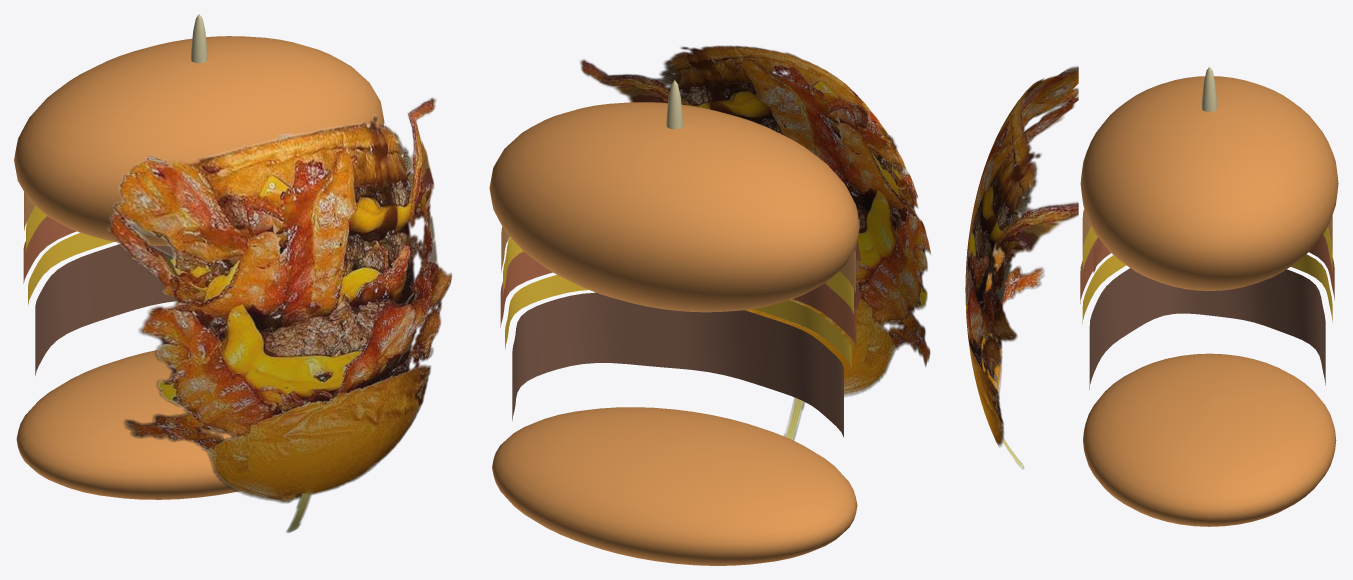
The model's file is classico-aproximado.glb.
3 views of the same model, side by side, from view 1: azimuth 30°, elevation 25°; view 2: azimuth 150°, elevation 25°; view 3: azimuth 270°, elevation 25° (orthographic). The views are drawn at different scales.
Parts seen in each view (by area): view 1: Foto original curva na frente, Pao superior, Pao inferior, Carne, Queijo entre camadas, Bacon em volta, Palito; view 2: Pao superior, Pao inferior, Foto original curva na frente, Carne, Queijo entre camadas, Bacon em volta, Queijo superior, Palito; view 3: Pao superior, Pao inferior, Foto original curva na frente, Carne, Queijo entre camadas, Bacon em volta, Palito, Queijo superior.
Boxes of the visible parts, x1,y1,x2,y2 form: Foto original curva na frente: (108,97,451,532); Pao superior: (14,36,384,246); Pao inferior: (16,350,238,499); Carne: (35,244,177,375); Queijo entre camadas: (28,233,113,305); Bacon em volta: (23,216,76,283); Palito: (191,14,207,63); Pao superior: (489,102,859,312); Pao inferior: (492,407,857,565); Foto original curva na frente: (580,45,930,440); Carne: (512,292,843,437); Queijo entre camadas: (505,275,851,367); Bacon em volta: (500,251,856,346); Queijo superior: (503,237,853,313); Palito: (666,80,682,129); Pao superior: (1080,76,1338,290); Pao inferior: (1083,353,1336,526); Foto original curva na frente: (965,66,1078,468); Carne: (1089,268,1325,389); Queijo entre camadas: (1082,254,1332,323); Bacon em volta: (1080,235,1334,303); Palito: (1202,67,1217,111); Queijo superior: (1082,225,1332,273).
Bounding box in the file's own units: 1.64 × 2.01 × 1.62.
7 materials, 1 textured.
